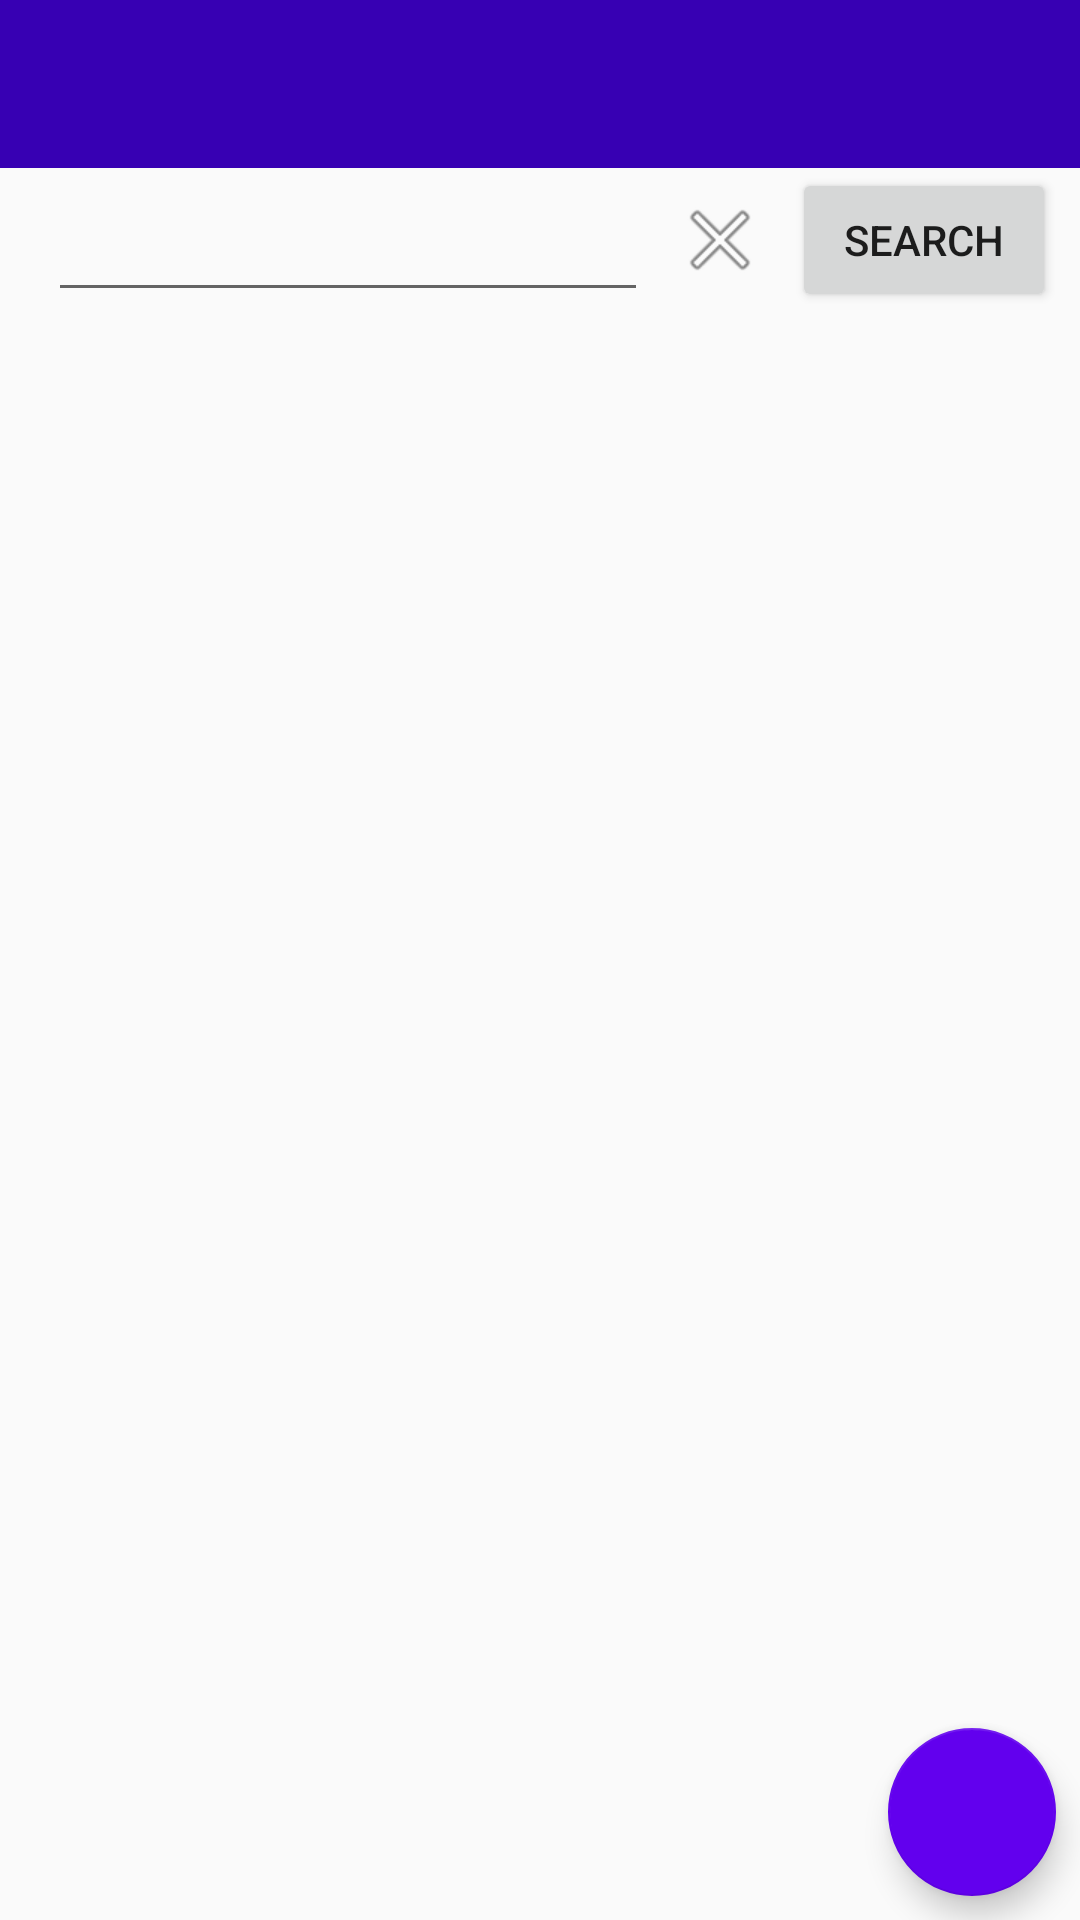

Icons on this 1080px×1920px Android screen, each with its box as box=[x1, y1, x2, y2]:
close clear cancel: box=[690, 210, 750, 270]
